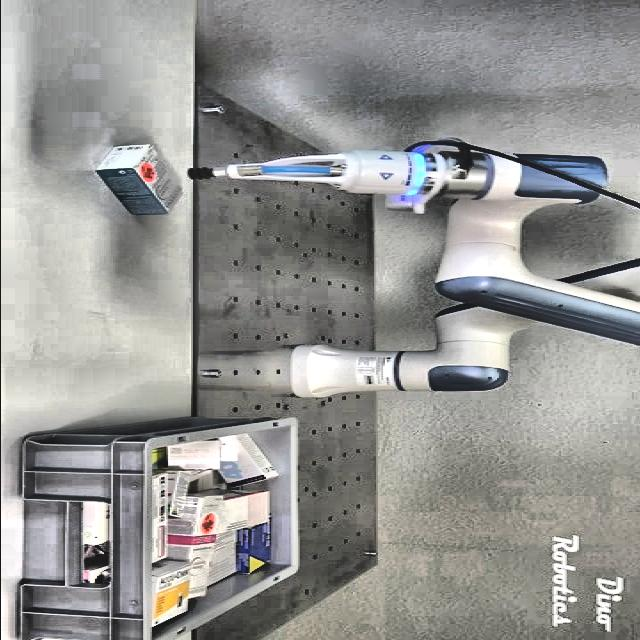robot: (188, 137, 640, 398)
